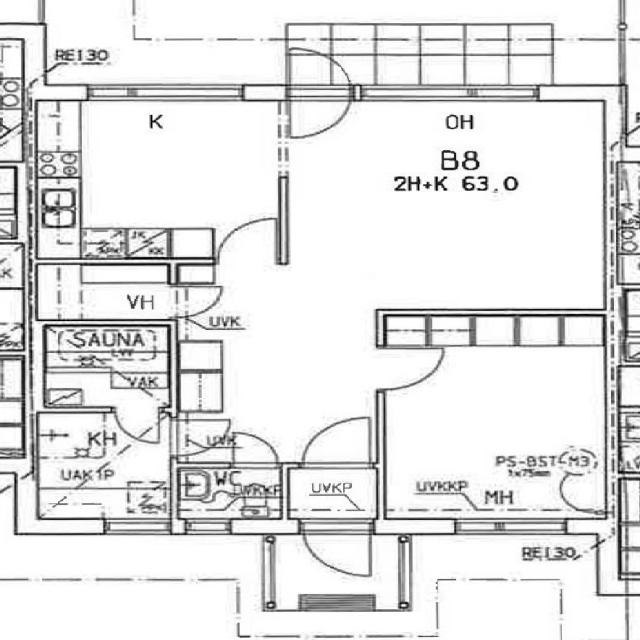door: (303, 519, 370, 581), (290, 42, 350, 100), (290, 85, 350, 142), (304, 417, 369, 468), (376, 349, 444, 389), (218, 218, 276, 264), (170, 420, 230, 454), (115, 406, 159, 443), (233, 432, 277, 468), (170, 286, 222, 316)
